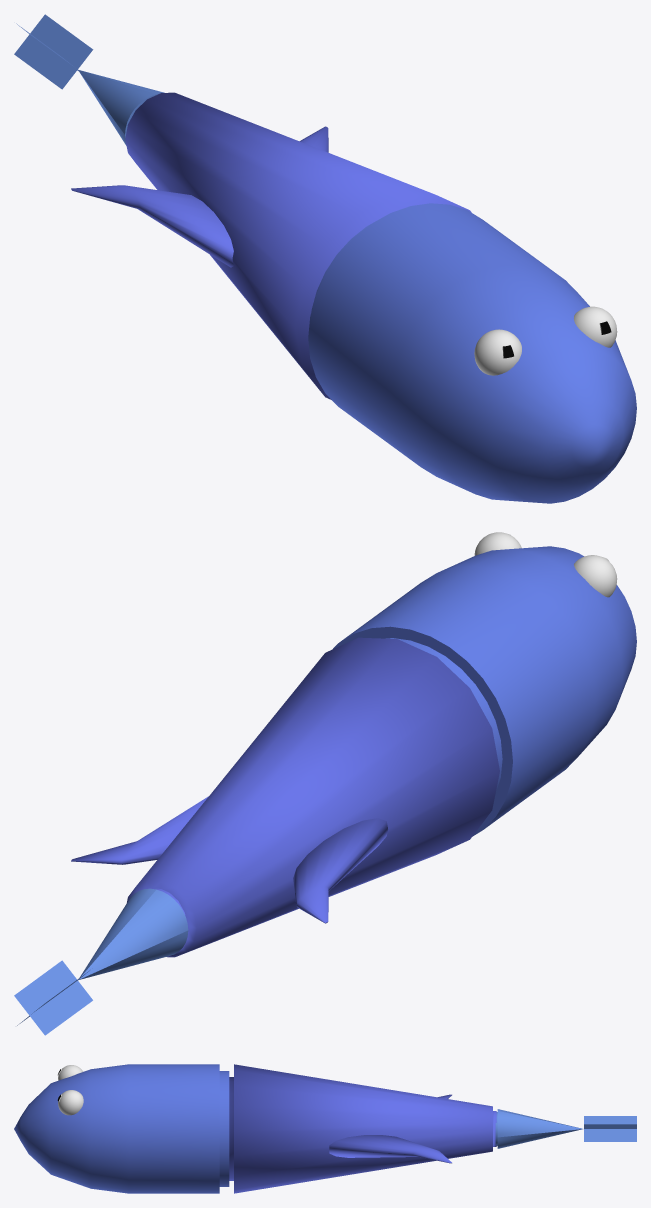
Rendered from complete111.glb.
3 views of the same model, one above another, from view 1: azimuth 30°, elevation 25°; view 2: azimuth 150°, elevation 25°; view 3: azimuth 270°, elevation 25° (orthographic). The views are drawn at different scales.
Parts seen in each view (by area): view 1: Sphere.001; view 2: Sphere.001; view 3: Sphere.001.
Part boxes in pixels (x1,y1,x2,y2): Sphere.001: (14, 14, 636, 503); Sphere.001: (14, 532, 636, 1035); Sphere.001: (14, 1064, 636, 1193).
Bounding box in the file's own units: 2.5 × 2 × 9.62.
